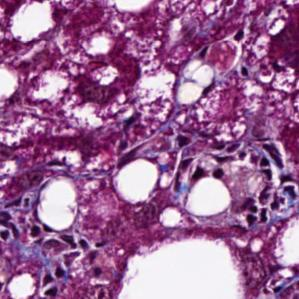inflammation: (231, 144, 299, 236), (0, 209, 95, 269), (158, 128, 251, 187), (35, 235, 111, 299)
